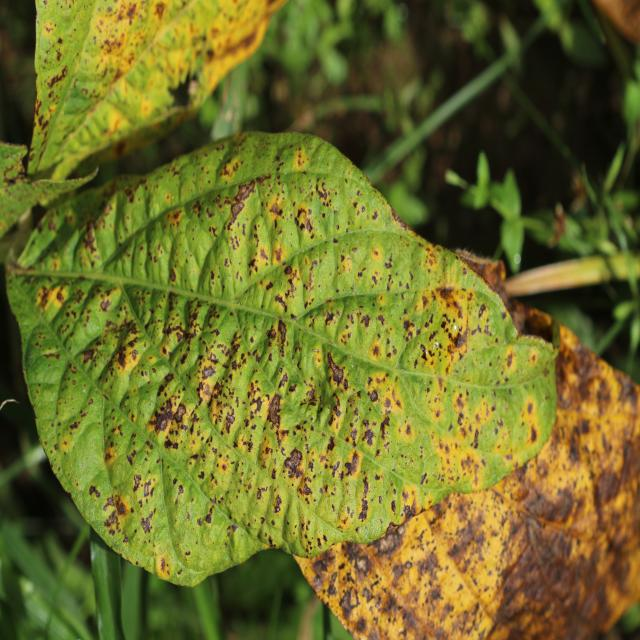Bacterial_Blight: (87, 3, 151, 82), (210, 364, 251, 434), (149, 390, 196, 451), (279, 436, 308, 481), (365, 397, 392, 444), (285, 200, 319, 230), (37, 284, 66, 315), (82, 222, 100, 264), (45, 64, 69, 89), (140, 511, 154, 534), (229, 200, 245, 220), (42, 21, 58, 40), (201, 363, 217, 381), (104, 441, 116, 465), (340, 255, 352, 274), (274, 294, 287, 311), (228, 233, 240, 251), (204, 505, 214, 524), (116, 499, 127, 516), (88, 484, 100, 499), (100, 298, 112, 313), (403, 318, 414, 334), (324, 310, 335, 325), (132, 474, 142, 490), (384, 254, 393, 269), (143, 482, 151, 497), (169, 268, 177, 283), (159, 557, 166, 572), (256, 487, 263, 500), (371, 209, 379, 220), (372, 248, 380, 259), (177, 484, 184, 496)
Soybean: (7, 134, 557, 584)
